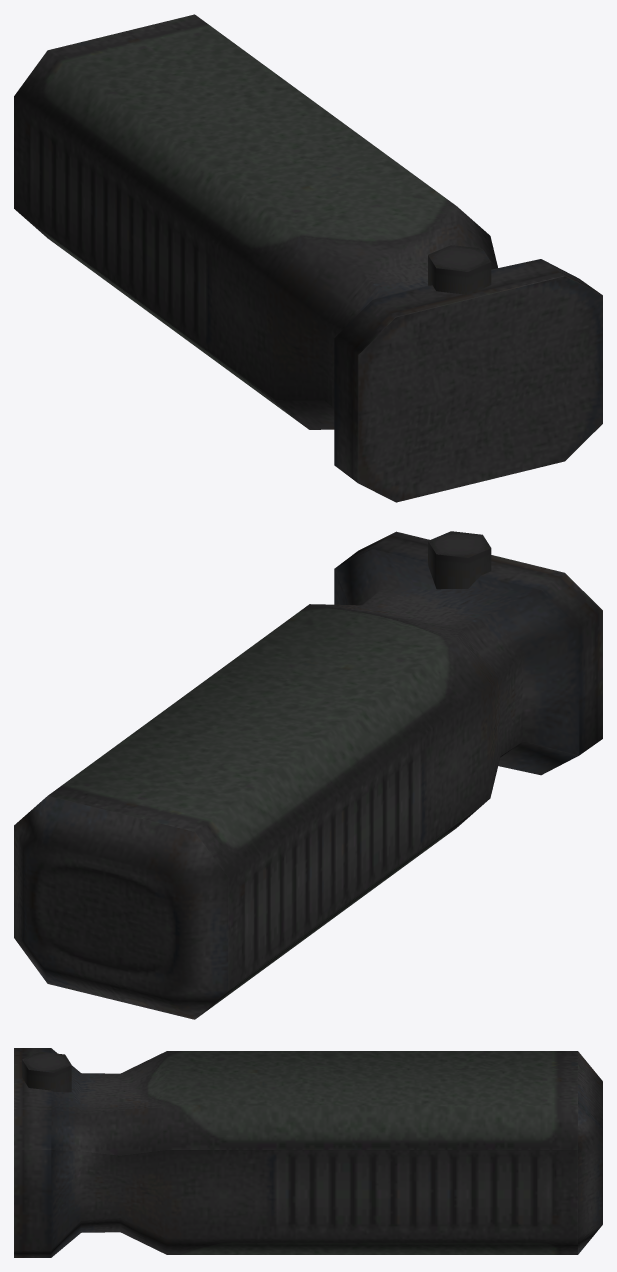
Rendered from t6_attach_grip_world_LOD0.obj.
3 views of the same model, one above another, from view 1: azimuth 30°, elevation 25°; view 2: azimuth 150°, elevation 25°; view 3: azimuth 270°, elevation 25° (orthographic). The views are drawn at different scales.
Visible parts, largest first — view 1: mtl_t6_attach_grip; view 2: mtl_t6_attach_grip; view 3: mtl_t6_attach_grip.
Boxes of the visible parts, left/top/right/bottom form: mtl_t6_attach_grip: left=14, top=14, right=602, bottom=502; mtl_t6_attach_grip: left=14, top=531, right=602, bottom=1019; mtl_t6_attach_grip: left=14, top=1048, right=602, bottom=1257.
Size of the model in its own units: 3.88 by 3.17 by 10.3.
